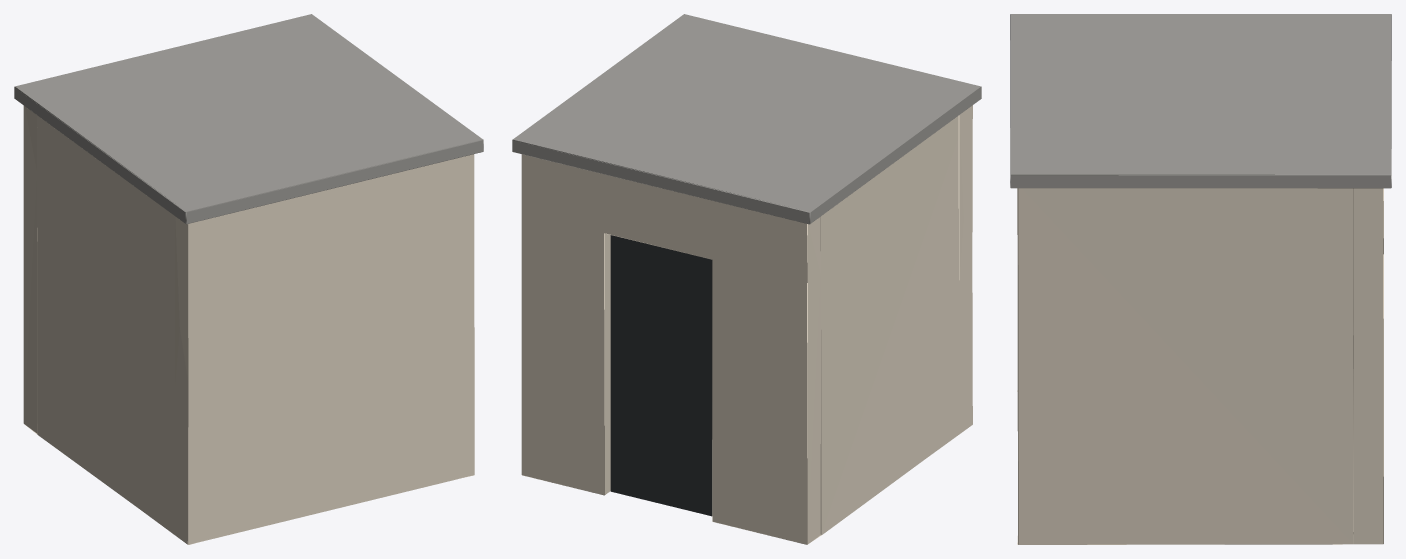
File: SM_VB_Roof_StairHouse.fbx
3 views of the same model, side by side, from view 1: azimuth 30°, elevation 25°; view 2: azimuth 150°, elevation 25°; view 3: azimuth 270°, elevation 25° (orthographic). The views are drawn at different scales.
Parts seen in each view (by area): view 1: SM_VB_Roof_StairHouse; view 2: SM_VB_Roof_StairHouse; view 3: SM_VB_Roof_StairHouse.
Boxes of the visible parts, <box> form: SM_VB_Roof_StairHouse: <box>14,14,483,544</box>; SM_VB_Roof_StairHouse: <box>512,14,981,544</box>; SM_VB_Roof_StairHouse: <box>1010,14,1391,544</box>.
Bounding box in the file's own units: 2.5 × 2.7 × 2.5.
